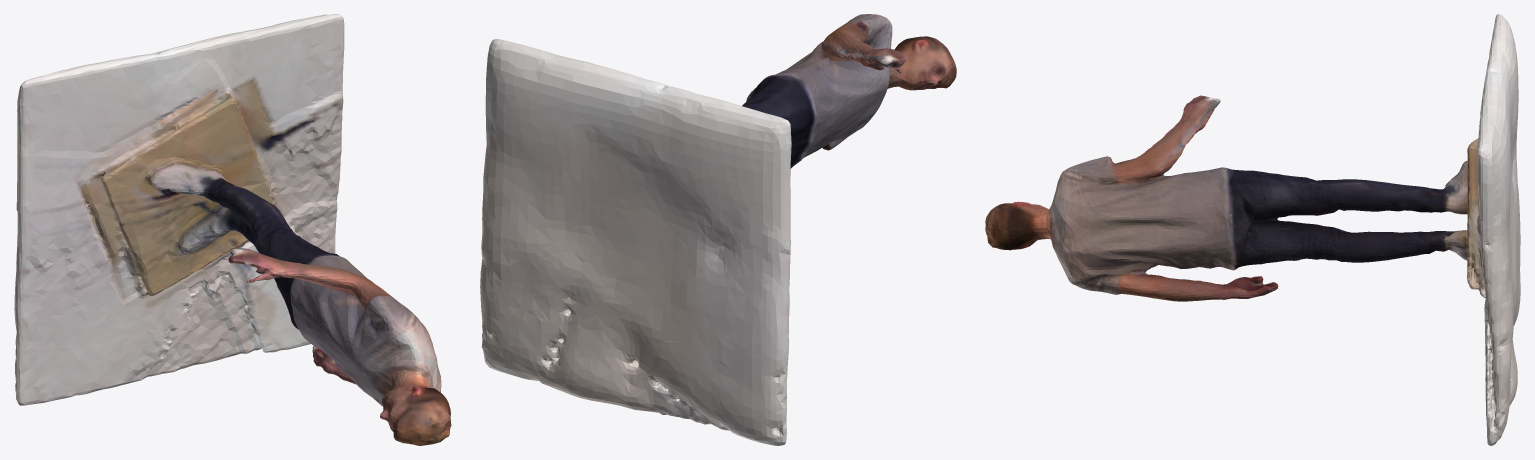
The model's file is Artjom_02.obj.
The picture shows the model from 3 angles, left to right: view 1: azimuth 30°, elevation 25°; view 2: azimuth 150°, elevation 25°; view 3: azimuth 270°, elevation 25°; orthographic projection. The views are drawn at different scales.
Bounding box in the file's own units: 1.23 × 1.23 × 1.98.
Materials: 1 (1 with a texture image).
